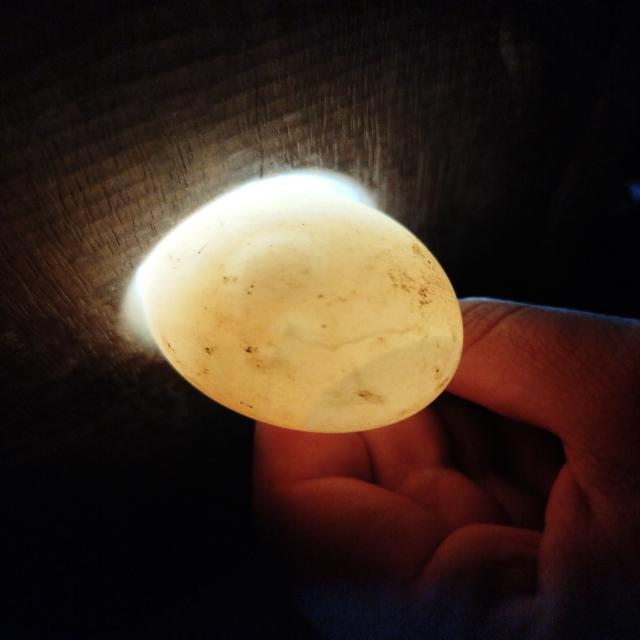Camara de Ar: (303, 336, 463, 431)
